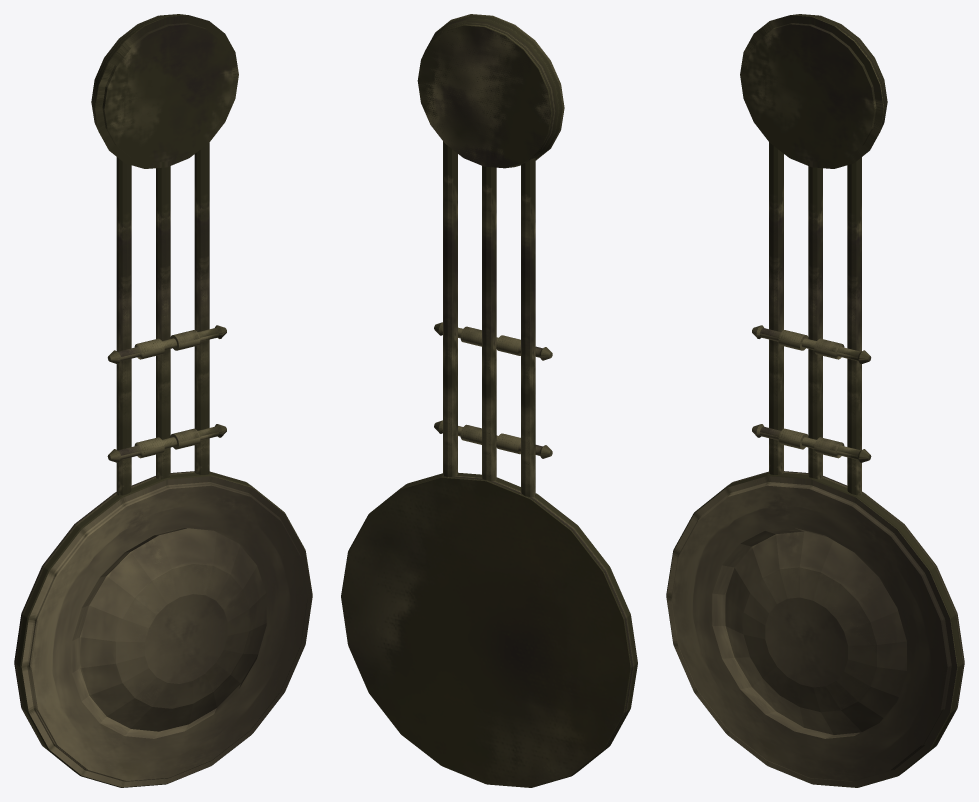
The model's file is ClockGong.fbx.
The picture shows the model from 3 angles, left to right: view 1: azimuth 30°, elevation 25°; view 2: azimuth 150°, elevation 25°; view 3: azimuth 330°, elevation 25°; orthographic projection.
Parts seen in each view (by area): view 1: pasted__pCylinder13; view 2: pasted__pCylinder13; view 3: pasted__pCylinder13.
Boxes of the visible parts, x1=… form: pasted__pCylinder13: x1=14, y1=14, x2=312, y2=787; pasted__pCylinder13: x1=341, y1=14, x2=637, y2=787; pasted__pCylinder13: x1=666, y1=14, x2=964, y2=787.
Bounding box in the file's own units: 42.54 × 107 × 5.31.
Materials: 1 (1 with a texture image).
